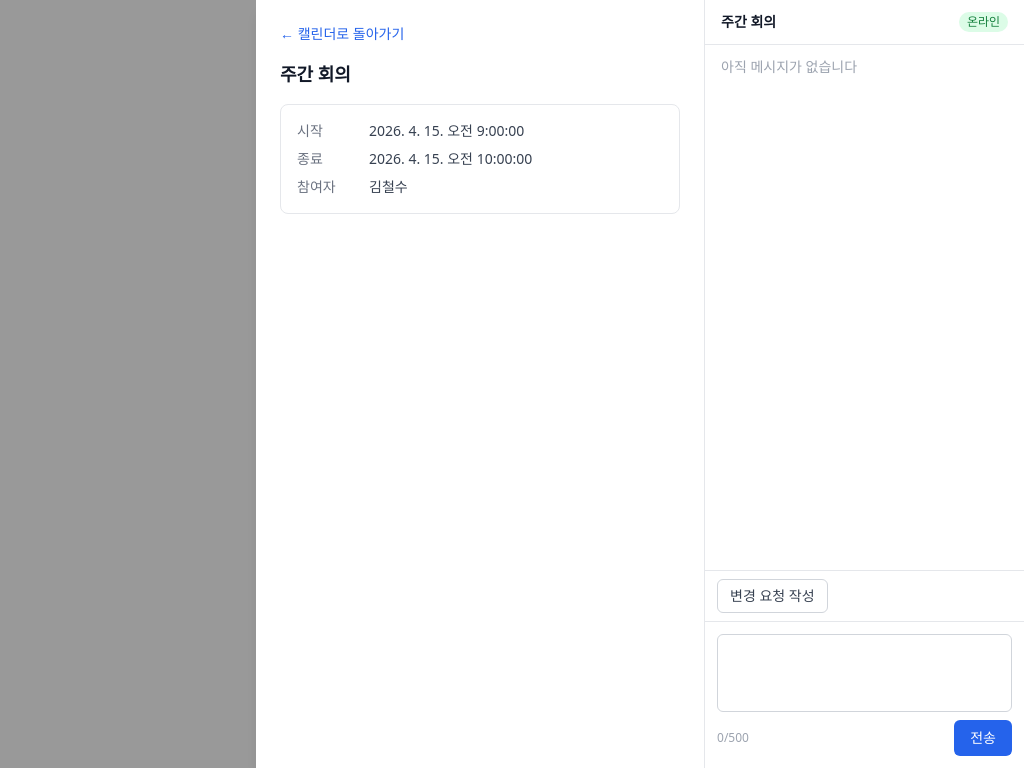
ScheduleChatPanel - 변경 요청 › 변경 요청 작성 버튼을 클릭하면 변경 요청 폼 모달이 노출된다
Click the button "변경 요청 작성": (772, 596) [717,579,828,613]
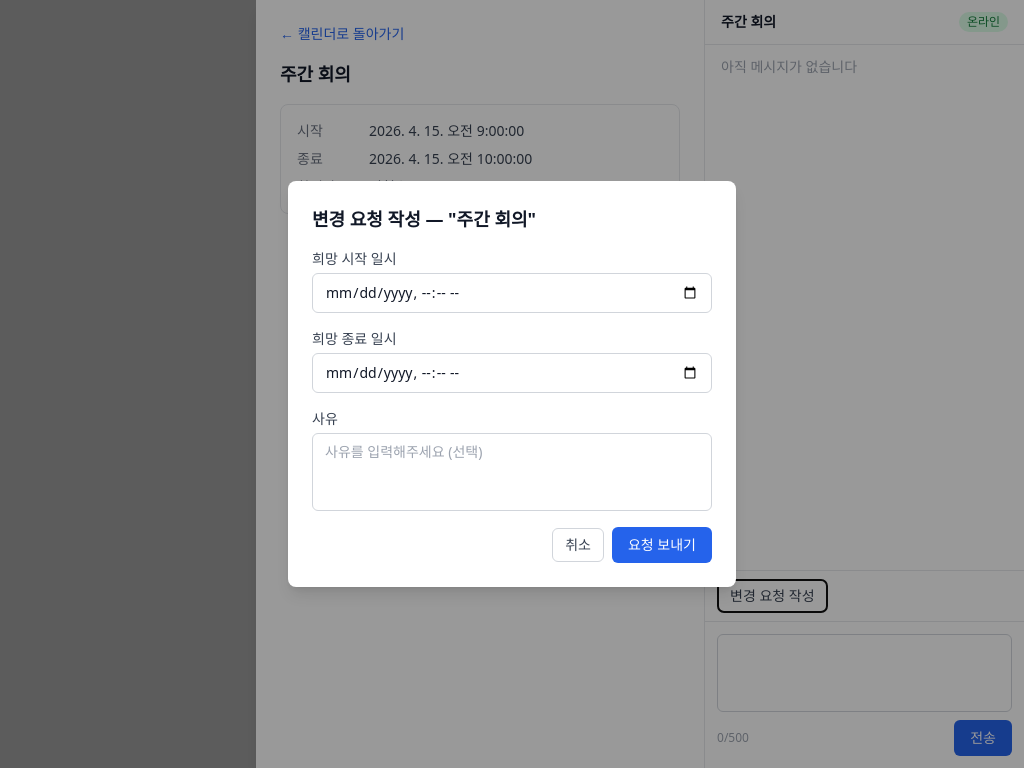
expect the field labelled "희망 시작 일시" is shown: met, box [312,273,712,313]
expect the field labelled "희망 종료 일시" is shown: met, box [312,353,712,393]
